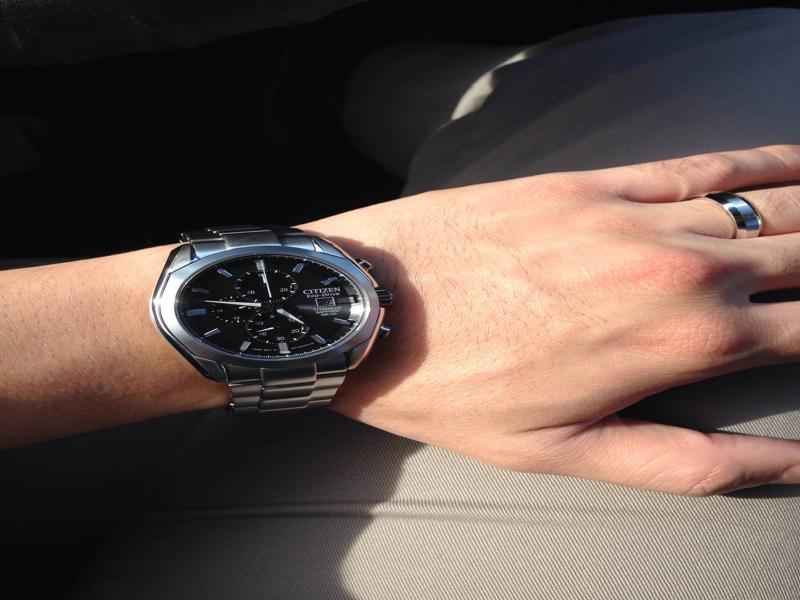watch: (146, 224, 392, 415)
